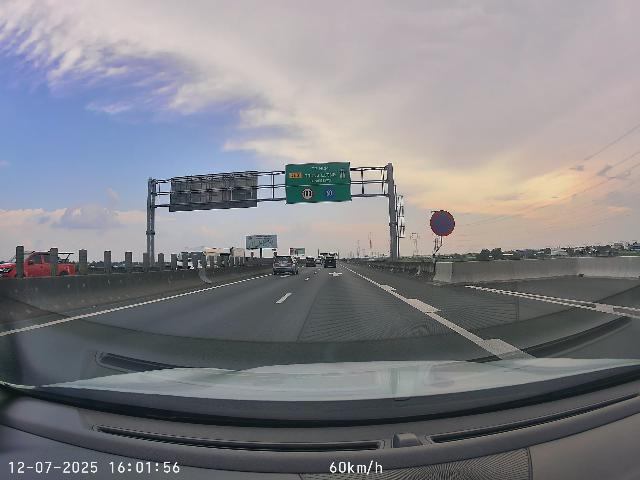127-toc-do-toi-da-100: (301, 188, 314, 200)
130-cam-dung-va-do-xe: (430, 210, 455, 237)
306-toc-do-toi-thieu-60: (323, 187, 336, 199)
437-bat-dau-duong-cao-toc: (338, 168, 347, 179)
